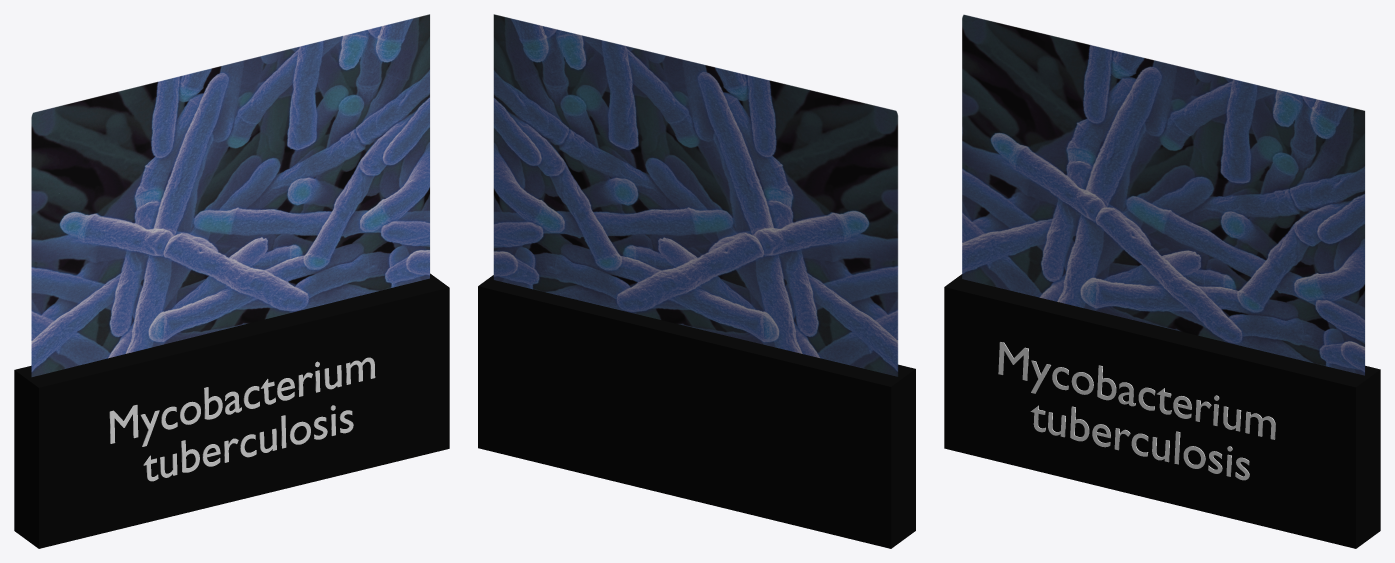
The model's file is mycob.gltf.
The picture shows the model from 3 angles, left to right: view 1: azimuth 30°, elevation 25°; view 2: azimuth 150°, elevation 25°; view 3: azimuth 330°, elevation 25°; orthographic projection.
Parts seen in each view (by area): view 1: mycobacteria, Cube.003, Text.003; view 2: mycobacteria, Cube.003; view 3: mycobacteria, Cube.003, Text.003.
Boxes of the visible parts, box(x1,y1,x2,y2) form: mycobacteria: box(31, 14, 429, 377); Cube.003: box(14, 273, 449, 548); Text.003: box(109, 357, 375, 481); mycobacteria: box(493, 14, 898, 376); Cube.003: box(478, 275, 915, 548); mycobacteria: box(962, 14, 1364, 375); Cube.003: box(944, 274, 1380, 548); Text.003: box(998, 342, 1275, 480).
Size of the model in its own units: 2.04 by 2.02 by 0.2953.
Materials: 2 (1 with a texture image).
